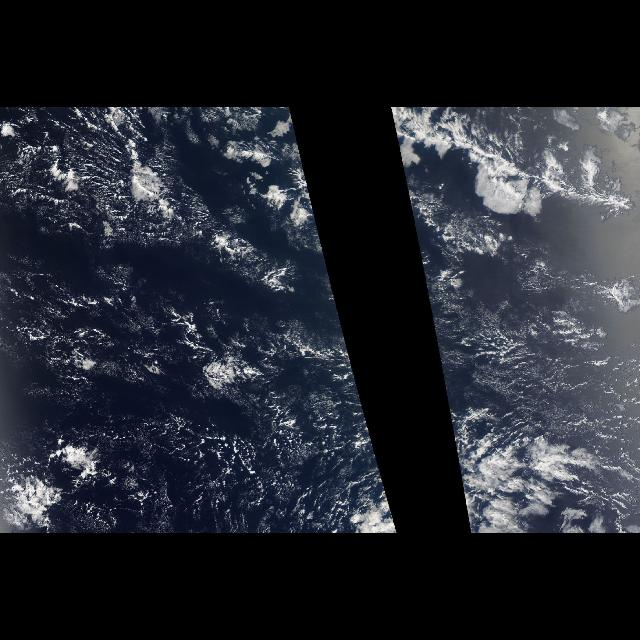Fish: (390, 107, 636, 205)
Gravel: (115, 286, 392, 532)
Sugar: (4, 256, 326, 388), (422, 270, 640, 452)
